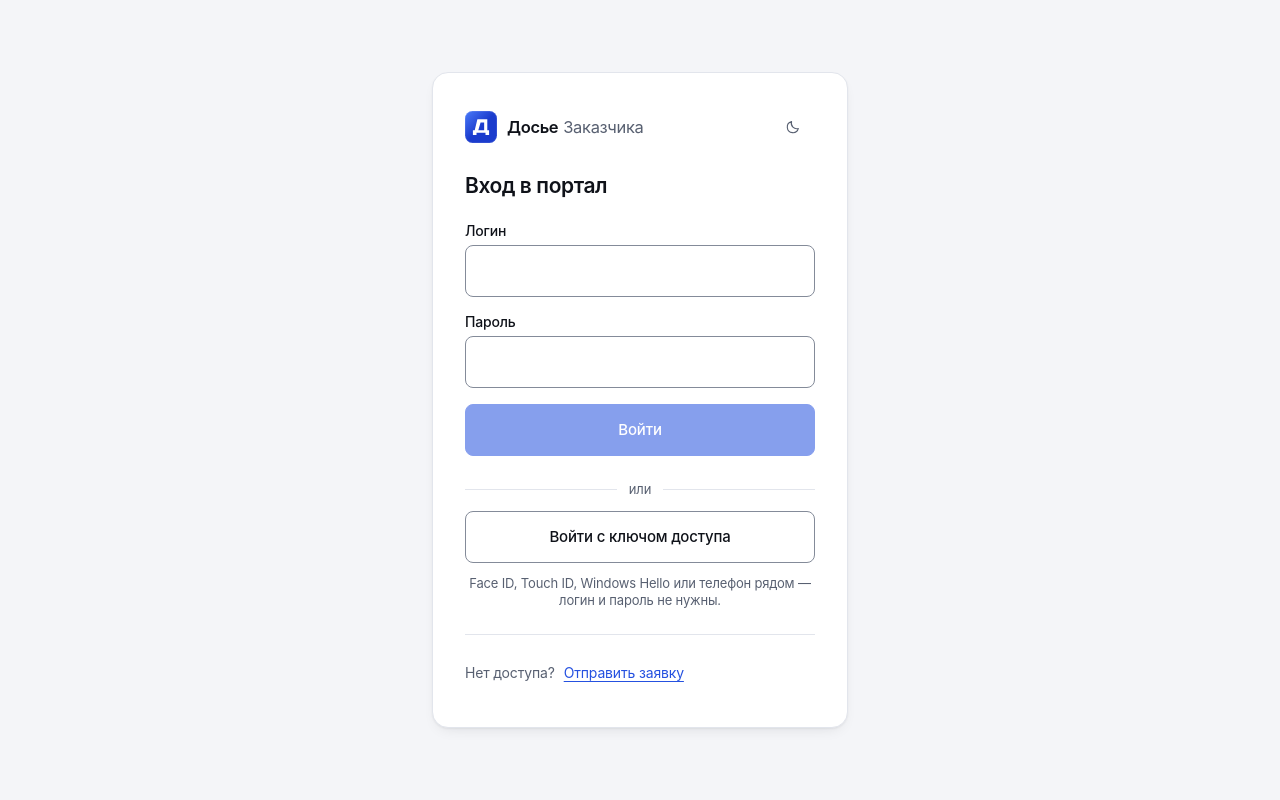
Scenario: вход по ключу доступа › без логина: параметры сервера → окно устройства → ответ на сервер → портал
What coordinates should you click on to do the following:
click the button "Войти с ключом доступа"
I would click on:
 (640, 537)
Its box is [465,511,815,563].
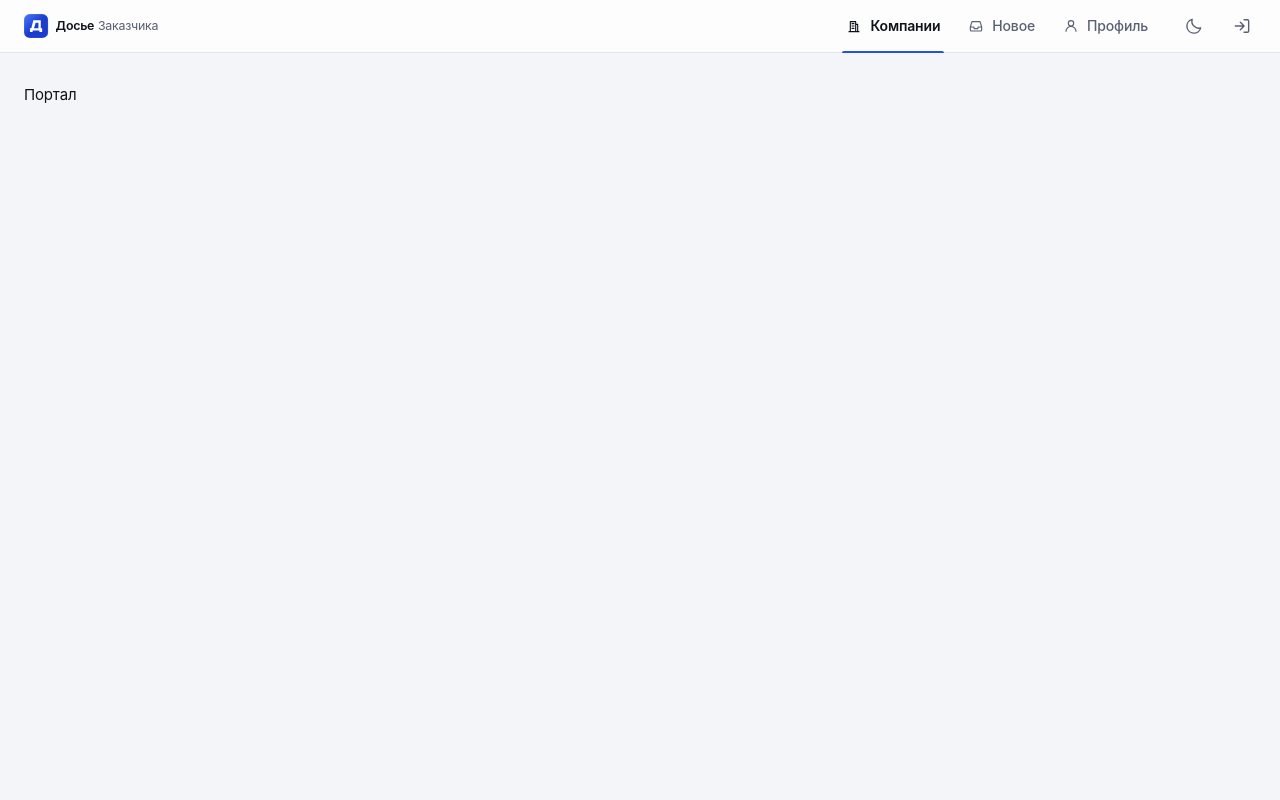
Result: the button named "Выйти (Иван Иванов)" is shown at [1220,4,1264,48]
